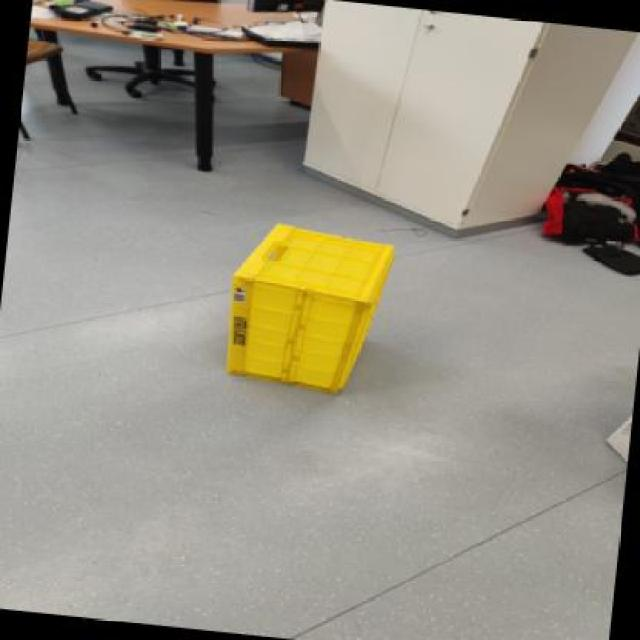box: (157, 192, 454, 425)
